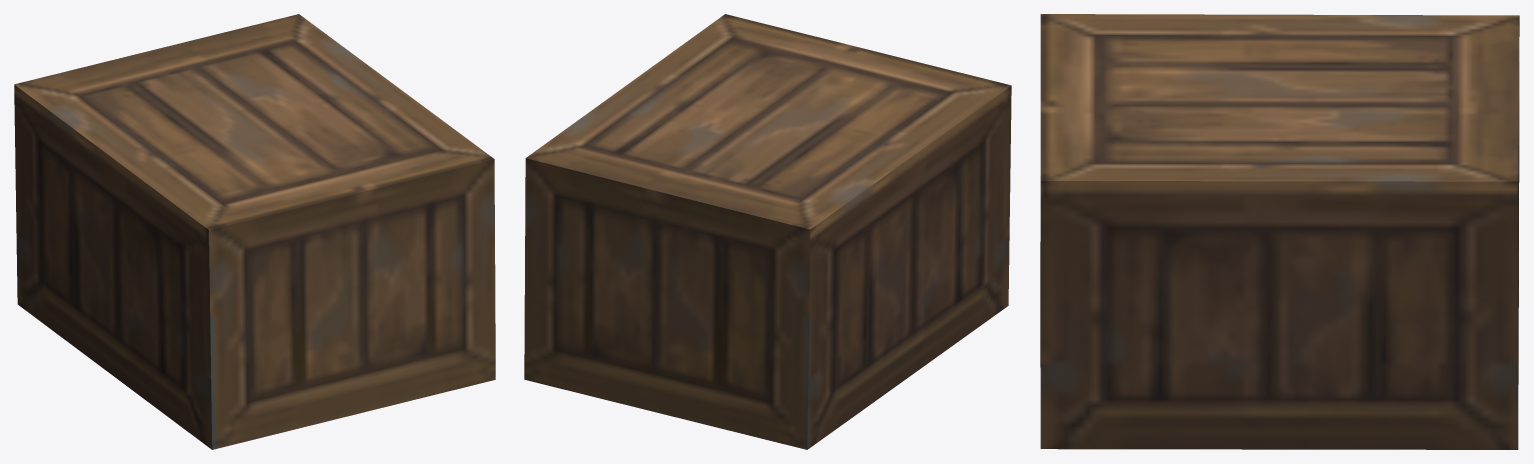
Rendered from fb_xsc_jz_10_f.FBX.
3 renders of one model, left to right at view 1: azimuth 30°, elevation 25°; view 2: azimuth 150°, elevation 25°; view 3: azimuth 270°, elevation 25°, orthographic. The views are drawn at different scales.
Visible parts, largest first — view 1: fb_xsc_jz_10_h; view 2: fb_xsc_jz_10_h; view 3: fb_xsc_jz_10_h.
Boxes of the visible parts, x1,y1,x2,y2 form: fb_xsc_jz_10_h: (14,14,495,449); fb_xsc_jz_10_h: (524,14,1011,449); fb_xsc_jz_10_h: (1040,14,1519,449).
Size of the model in its own units: 200 by 147 by 237.
